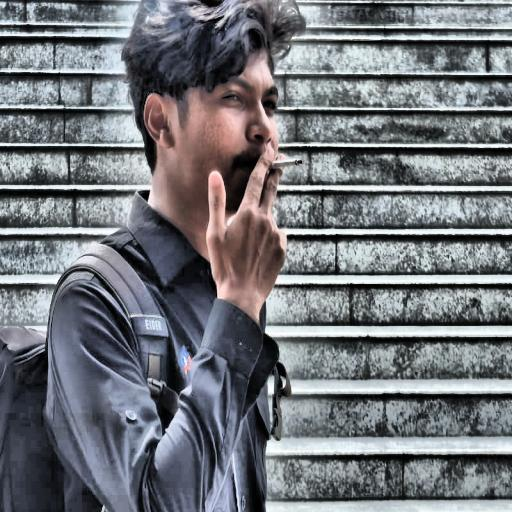Asbak: (271, 158, 302, 169)
Merokok: (143, 54, 300, 319)
